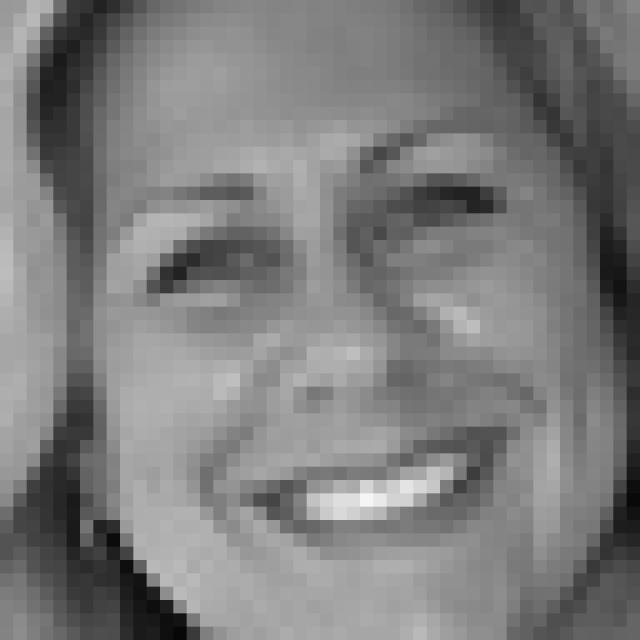happy: (112, 98, 558, 575)
